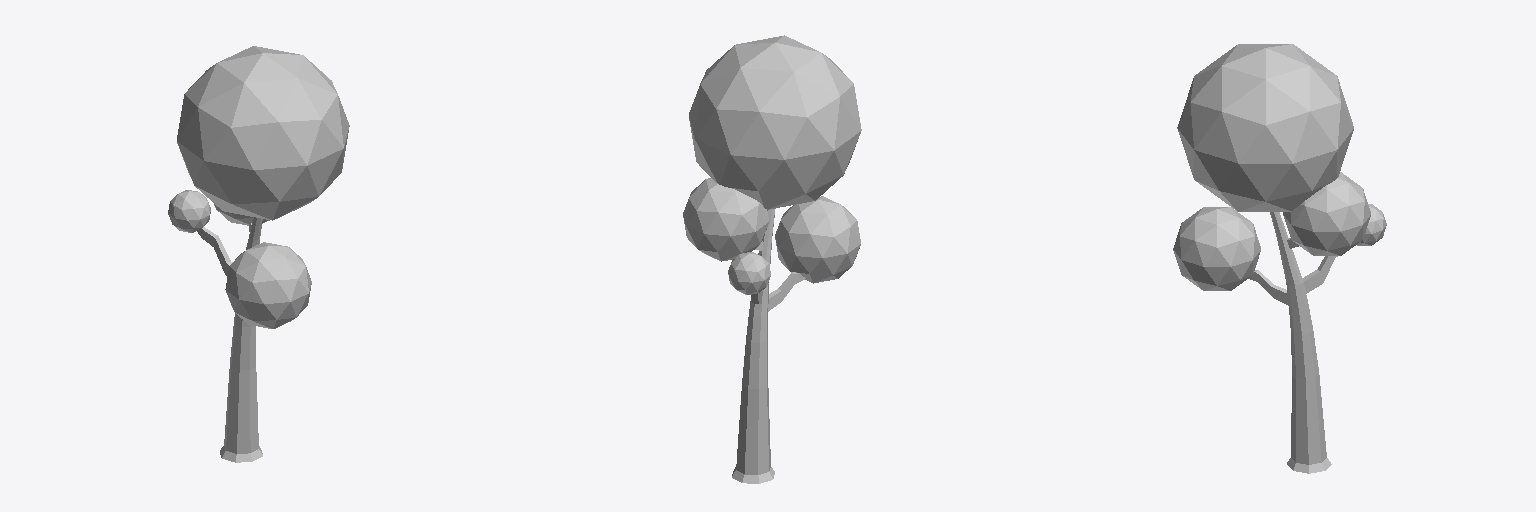
The model's file is arbol.obj.
3 views of the same model, side by side, from view 1: azimuth 30°, elevation 25°; view 2: azimuth 150°, elevation 25°; view 3: azimuth 270°, elevation 25° (orthographic).
Parts seen in each view (by area): view 1: Arbol_Icosphere; view 2: Arbol_Icosphere; view 3: Arbol_Icosphere.
Boxes of the visible parts, x1,y1,x2,y2 form: Arbol_Icosphere: [168, 46, 349, 462]; Arbol_Icosphere: [683, 35, 861, 483]; Arbol_Icosphere: [1173, 44, 1386, 473].
Bounding box in the file's own units: 3.8 × 10.38 × 4.83.